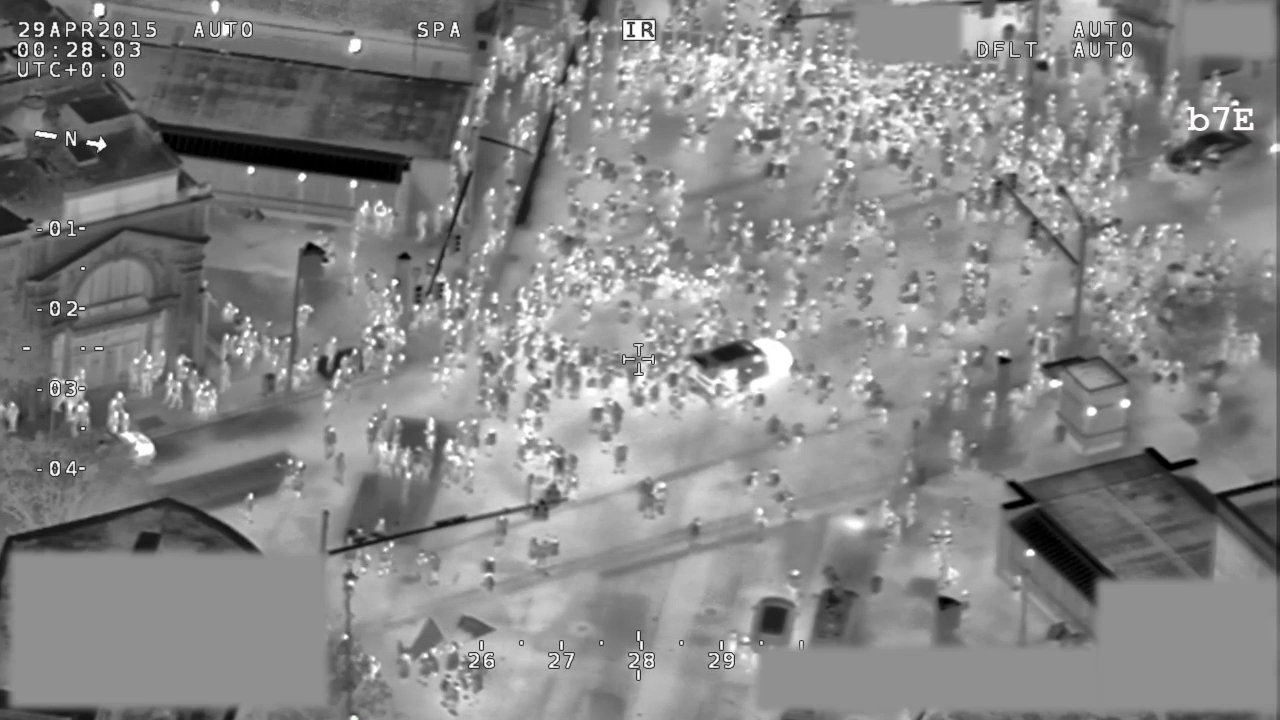vehicle: (681, 338, 796, 405), (803, 559, 869, 652), (1161, 130, 1259, 178), (746, 589, 801, 654), (82, 427, 161, 469)
